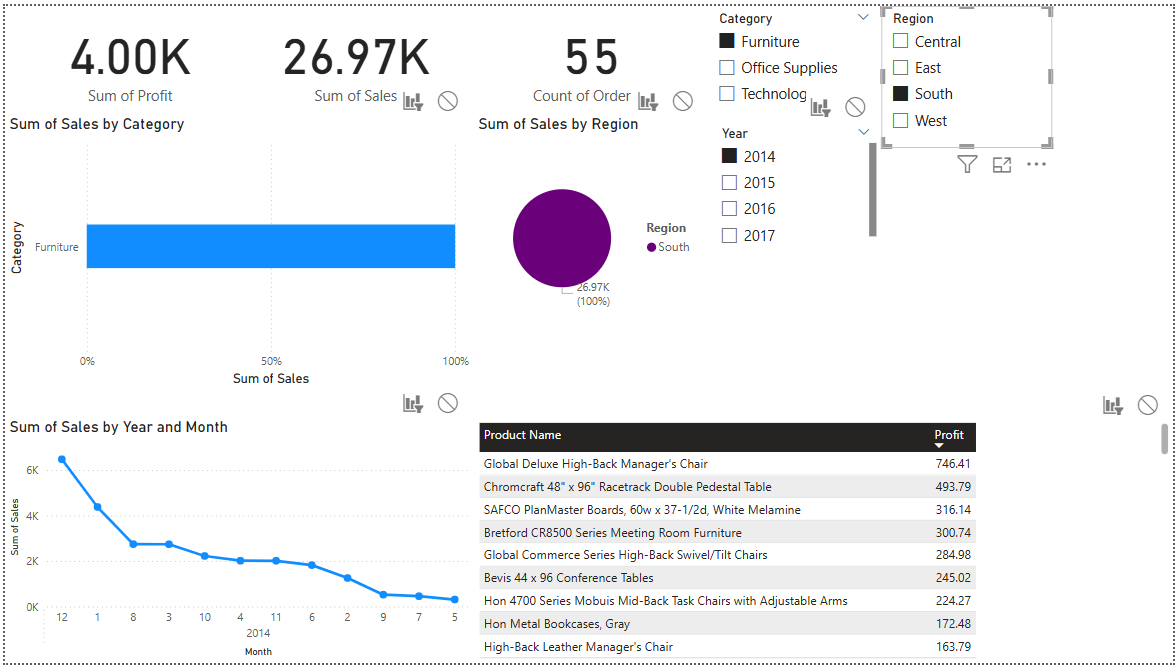

The dashboard page shown, as its layout file describes it:
{"tool":"powerbi","page":{"name":"Page 1","canvas":[1280,720],"ordinal":0},"visuals":[{"type":"card","fields":{"Values":["Sum(Sample - Superstore (2).Profit)"]},"box":[9.8,0,255.6,118.6],"z":0},{"type":"card","fields":{"Values":["Sum(Sample - Superstore (2).Sales)"]},"box":[256.8,0,256.8,118.6],"z":1000},{"type":"card","fields":{"Values":["Count(Sample - Superstore (2).Order ID)"]},"box":[513.6,0,256.8,118.6],"z":2000},{"type":"hundredPercentStackedBarChart","fields":{"Category":["Sample - Superstore (2).Category"],"Y":["Sum(Sample - Superstore (2).Sales)"]},"box":[0,118.6,513.6,302],"z":3000},{"type":"pieChart","fields":{"Y":["Sum(Sample - Superstore (2).Sales)"],"Category":["Sample - Superstore (2).Region"]},"box":[513.6,118.6,258,251.9],"z":5000},{"type":"tableEx","fields":{"Values":["Sample - Superstore (2).Product Name","Sample - Superstore (2).Profit"]},"box":[513.6,452.4,766.7,267.8],"z":6000},{"type":"slicer","fields":{"Values":["Sample - Superstore (2).Category"]},"box":[770.4,0,189.5,126],"z":7000},{"type":"slicer","fields":{"Values":["Sample - Superstore (2).Region"]},"box":[959.9,0,188.3,156.5],"z":8000},{"type":"slicer","fields":{"Values":["Sample - Superstore (2).Year"]},"box":[772.5,126.2,187.5,143.8],"z":9000},{"type":"lineChart","fields":{"Y":["Sum(Sample - Superstore (2).Sales)"],"Category":["Sample - Superstore (2).Year","Sample - Superstore (2).Month"]},"box":[0,450.7,513.7,268.5],"z":9001}]}

Visuals, with their boxes on the page's 1280x720 design canvas (x1, y1, x2, y2). These are canvas units, not pixel positions in the 1175x668 screenshot, which may show the page scaled, cropped or inside an application window:
card - Sum(Sample - Superstore (2).Profit): {"left": 10, "top": 0, "right": 265, "bottom": 119}
card - Sum(Sample - Superstore (2).Sales): {"left": 257, "top": 0, "right": 514, "bottom": 119}
card - Count(Sample - Superstore (2).Order ID): {"left": 514, "top": 0, "right": 770, "bottom": 119}
hundredPercentStackedBarChart - Sample - Superstore (2).Category x Sum(Sample - Superstore (2).Sales): {"left": 0, "top": 119, "right": 514, "bottom": 421}
pieChart - Sum(Sample - Superstore (2).Sales) x Sample - Superstore (2).Region: {"left": 514, "top": 119, "right": 772, "bottom": 370}
tableEx - Sample - Superstore (2).Product Name x Sample - Superstore (2).Profit: {"left": 514, "top": 452, "right": 1280, "bottom": 720}
slicer - Sample - Superstore (2).Category: {"left": 770, "top": 0, "right": 960, "bottom": 126}
slicer - Sample - Superstore (2).Region: {"left": 960, "top": 0, "right": 1148, "bottom": 156}
slicer - Sample - Superstore (2).Year: {"left": 772, "top": 126, "right": 960, "bottom": 270}
lineChart - Sum(Sample - Superstore (2).Sales) x Sample - Superstore (2).Year: {"left": 0, "top": 451, "right": 514, "bottom": 719}
